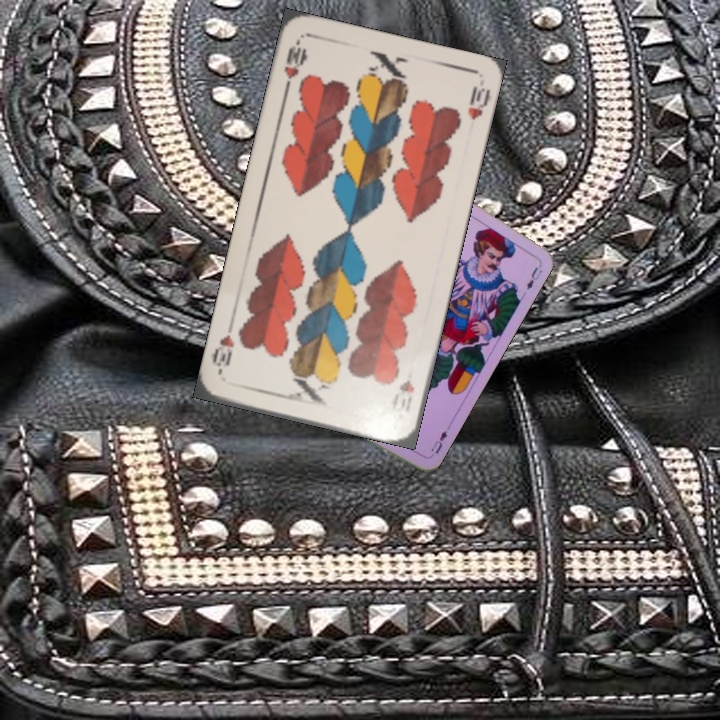EU: (427, 422, 452, 456)
H10: (280, 36, 309, 95), (388, 376, 417, 415)
